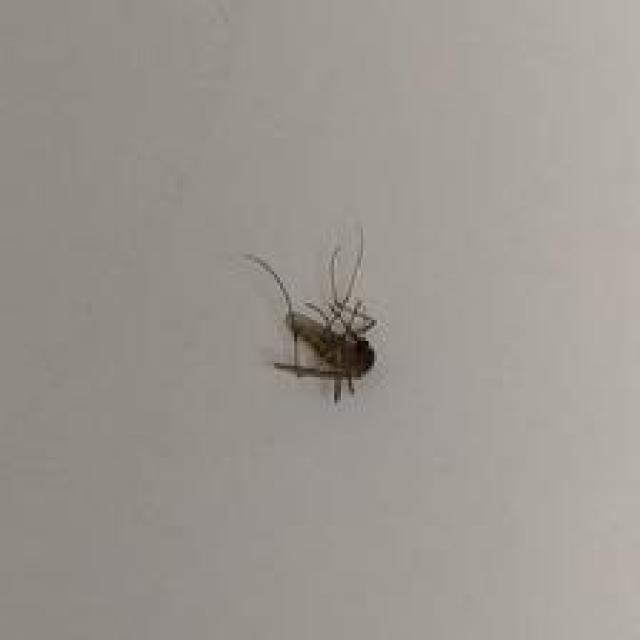Culex: (243, 224, 380, 404)
